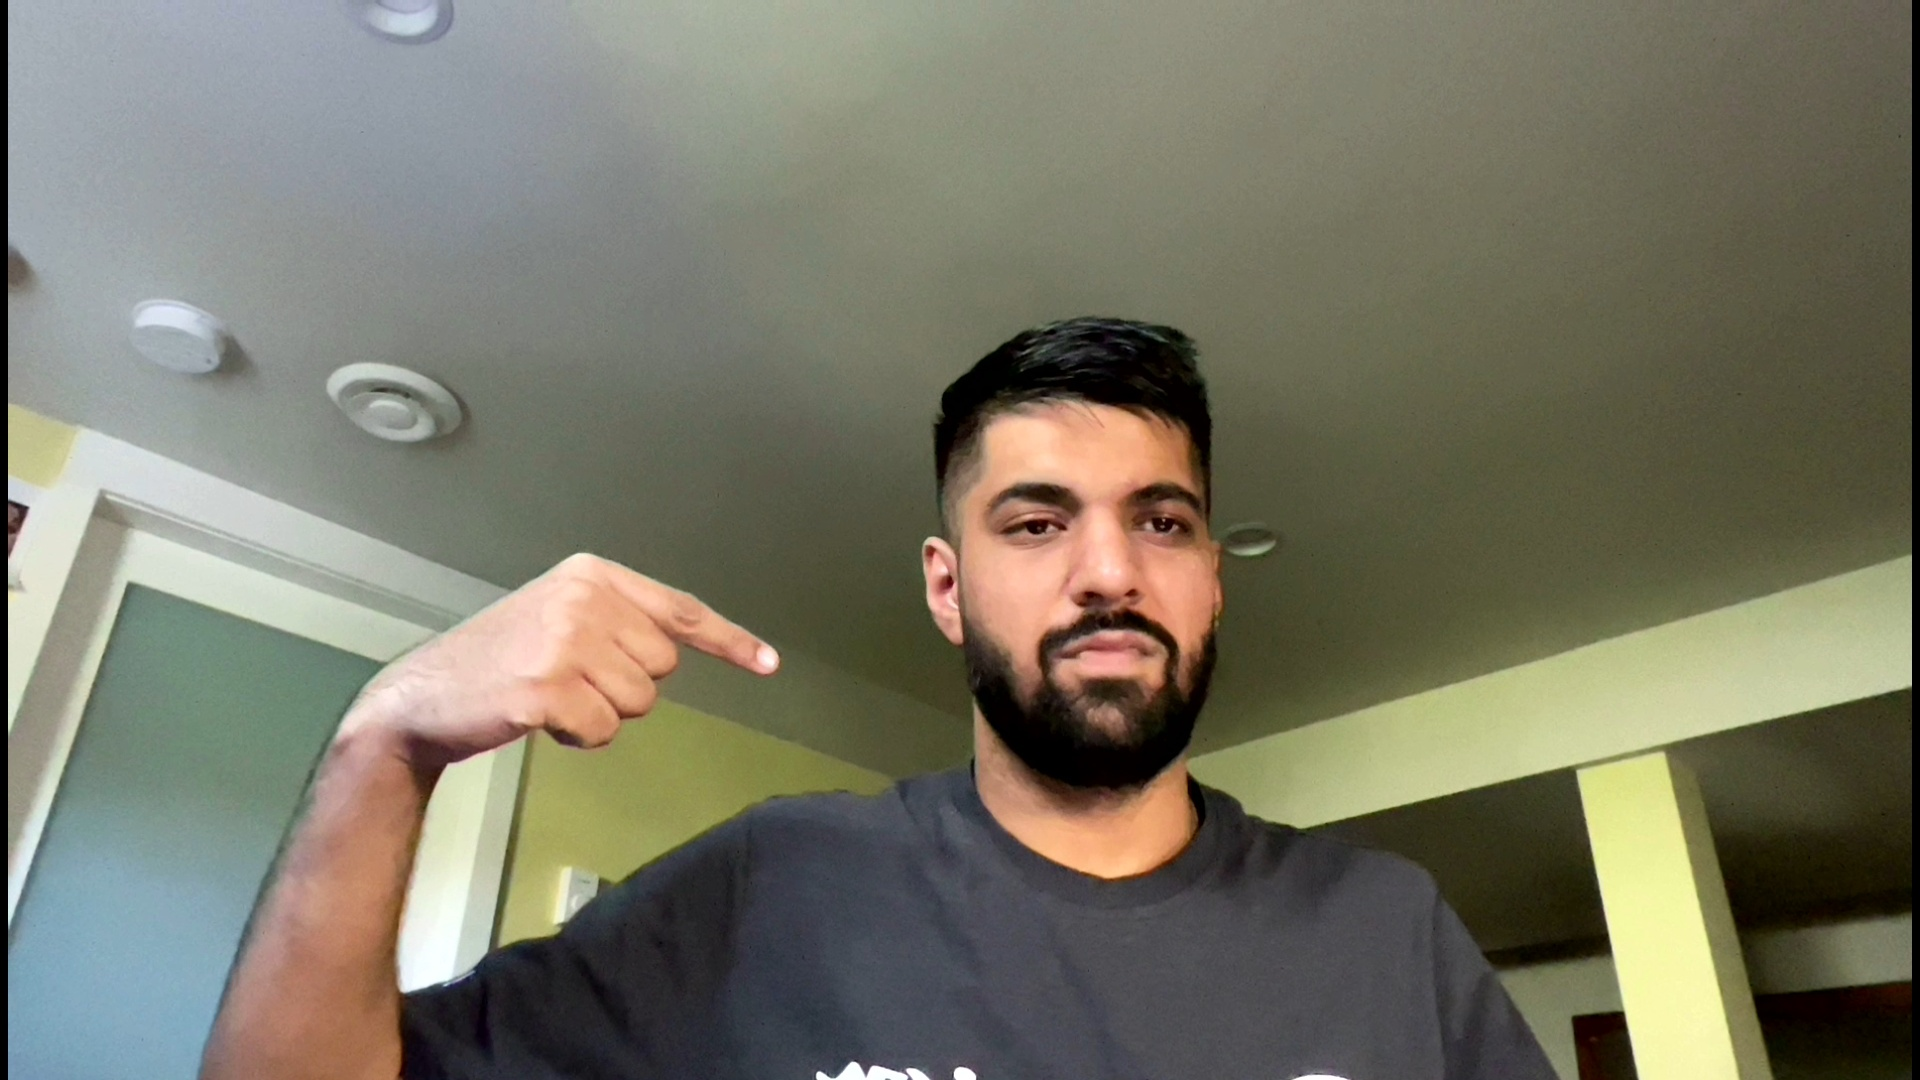Vikrant: (388, 546, 796, 765)
